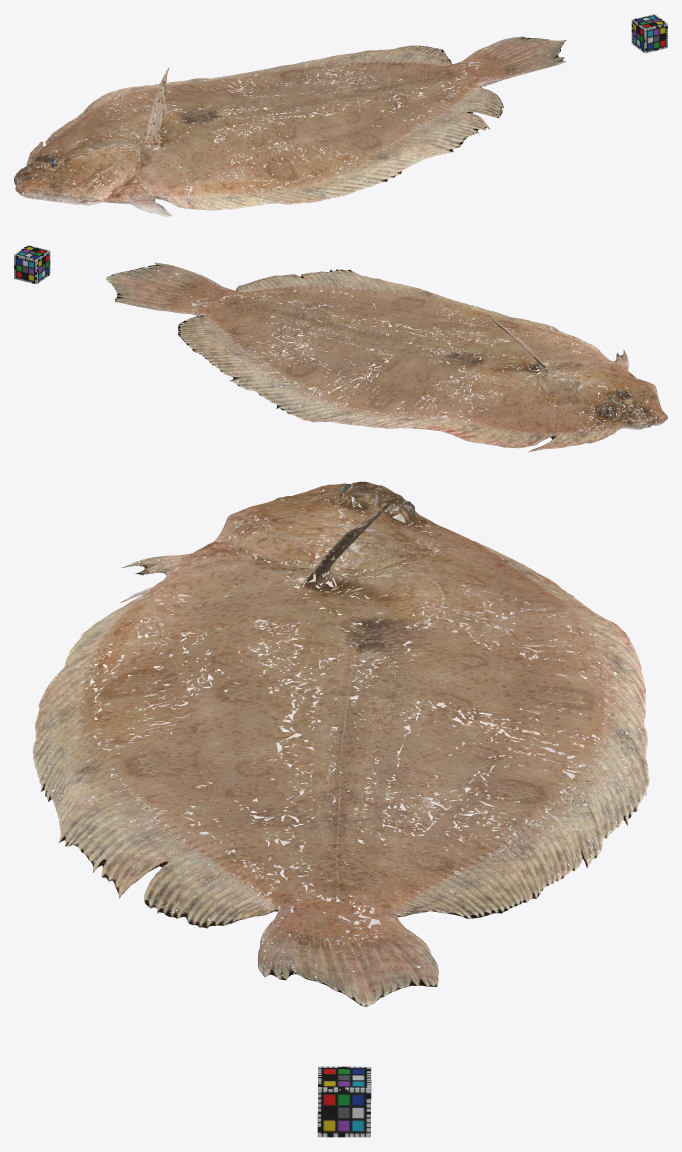
The model's file is scan_flounder_cinnamon.glb.
The picture shows the model from 3 angles, top to bottom: view 1: azimuth 30°, elevation 25°; view 2: azimuth 150°, elevation 25°; view 3: azimuth 270°, elevation 25°; orthographic projection. The views are drawn at different scales.
Parts seen in each view (by area): view 1: Object_12, Object_6, Object_4; view 2: Object_6, Object_12, Object_4; view 3: Object_12, Object_6, Object_4.
Boxes of the visible parts, left/top/right/bottom form: Object_12: left=14, top=36, right=566, bottom=216; Object_6: left=14, top=37, right=563, bottom=215; Object_4: left=631, top=14, right=667, bottom=53; Object_6: left=106, top=263, right=663, bottom=452; Object_12: left=106, top=262, right=667, bottom=450; Object_4: left=14, top=245, right=50, bottom=284; Object_12: left=32, top=481, right=649, bottom=1006; Object_6: left=33, top=481, right=649, bottom=1006; Object_4: left=317, top=1066, right=371, bottom=1137.
Size of the model in its own units: 20.44 by 3.28 by 8.49.
Materials: 3 (3 with a texture image).
